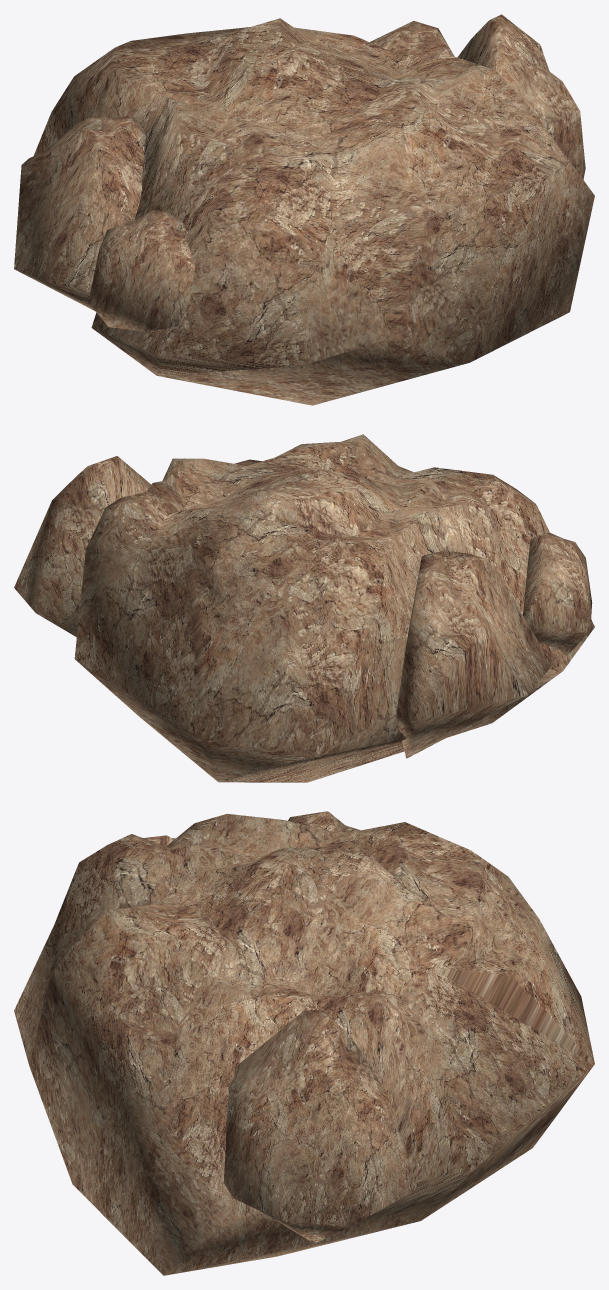
The model's file is rock_tatt_boulder_flat2_l1.fbx.
3 views of the same model, one above another, from view 1: azimuth 30°, elevation 25°; view 2: azimuth 150°, elevation 25°; view 3: azimuth 270°, elevation 25° (orthographic). The views are drawn at different scales.
Parts seen in each view (by area): view 1: mesh_node; view 2: mesh_node; view 3: mesh_node.
Part boxes in pixels (x1,y1,x2,y2): mesh_node: [14, 14, 594, 405]; mesh_node: [14, 434, 594, 782]; mesh_node: [14, 811, 594, 1275].
Size of the model in its own units: 6.61 by 3.98 by 5.43.
